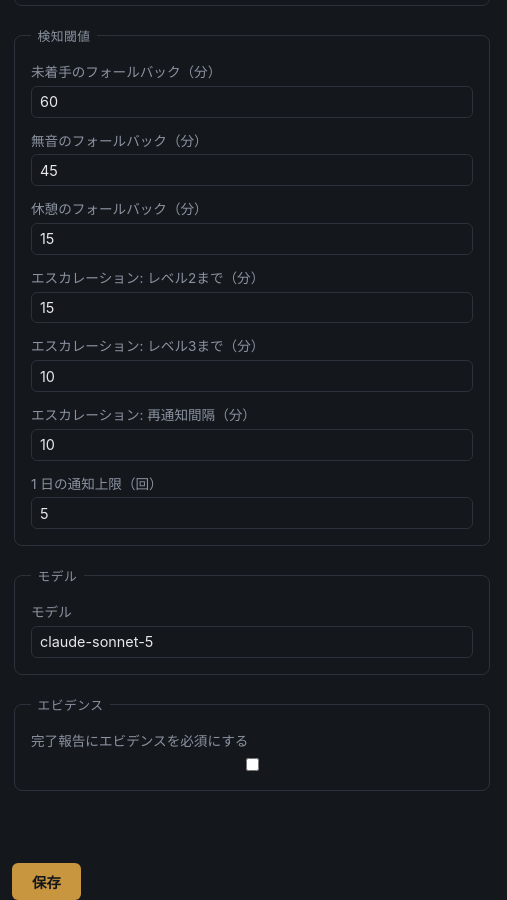
Test case: SettingsView › 会の時刻と稼働時間帯の整合警告（#708） › 警告なしの保存成功でも「保存しました」は role=status に表示され、role=alert は無い（#712）
(page scrolled)
Click the button "保存" at (46, 881), box [12,862,81,899]
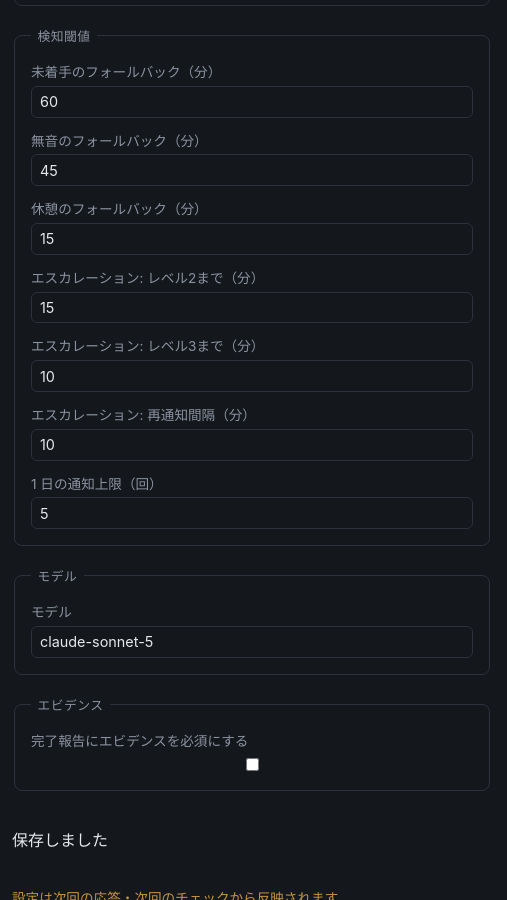
Expected: the message reads "保存しました", [12,830,108,850]
